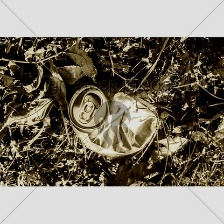can: (63, 83, 163, 163)
